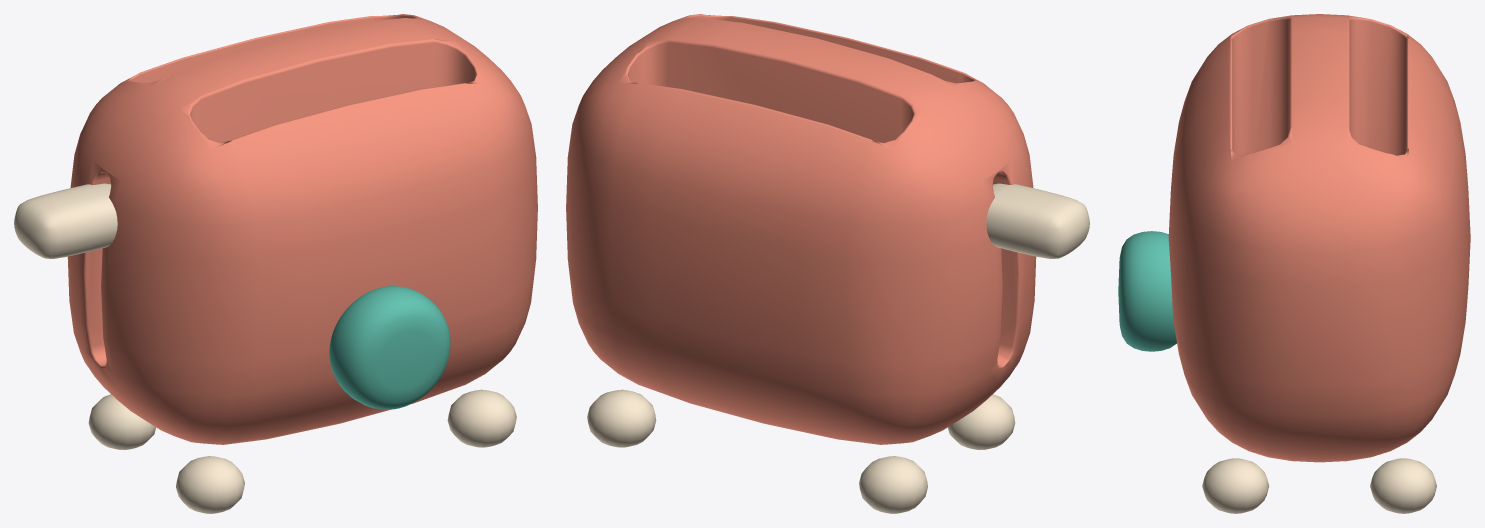
Rendered from toaster_b.glb.
3 renders of one model, left to right at view 1: azimuth 30°, elevation 25°; view 2: azimuth 150°, elevation 25°; view 3: azimuth 270°, elevation 25°, orthographic. The views are drawn at different scales.
Visible parts, largest first — view 1: body; view 2: body; view 3: body.
Part boxes in pixels (bbox=[...]): body: bbox=[14, 14, 537, 513]; body: bbox=[566, 14, 1089, 513]; body: bbox=[1118, 14, 1470, 513].
Bounding box in the file's own units: 0.325 × 0.252 × 0.21.
